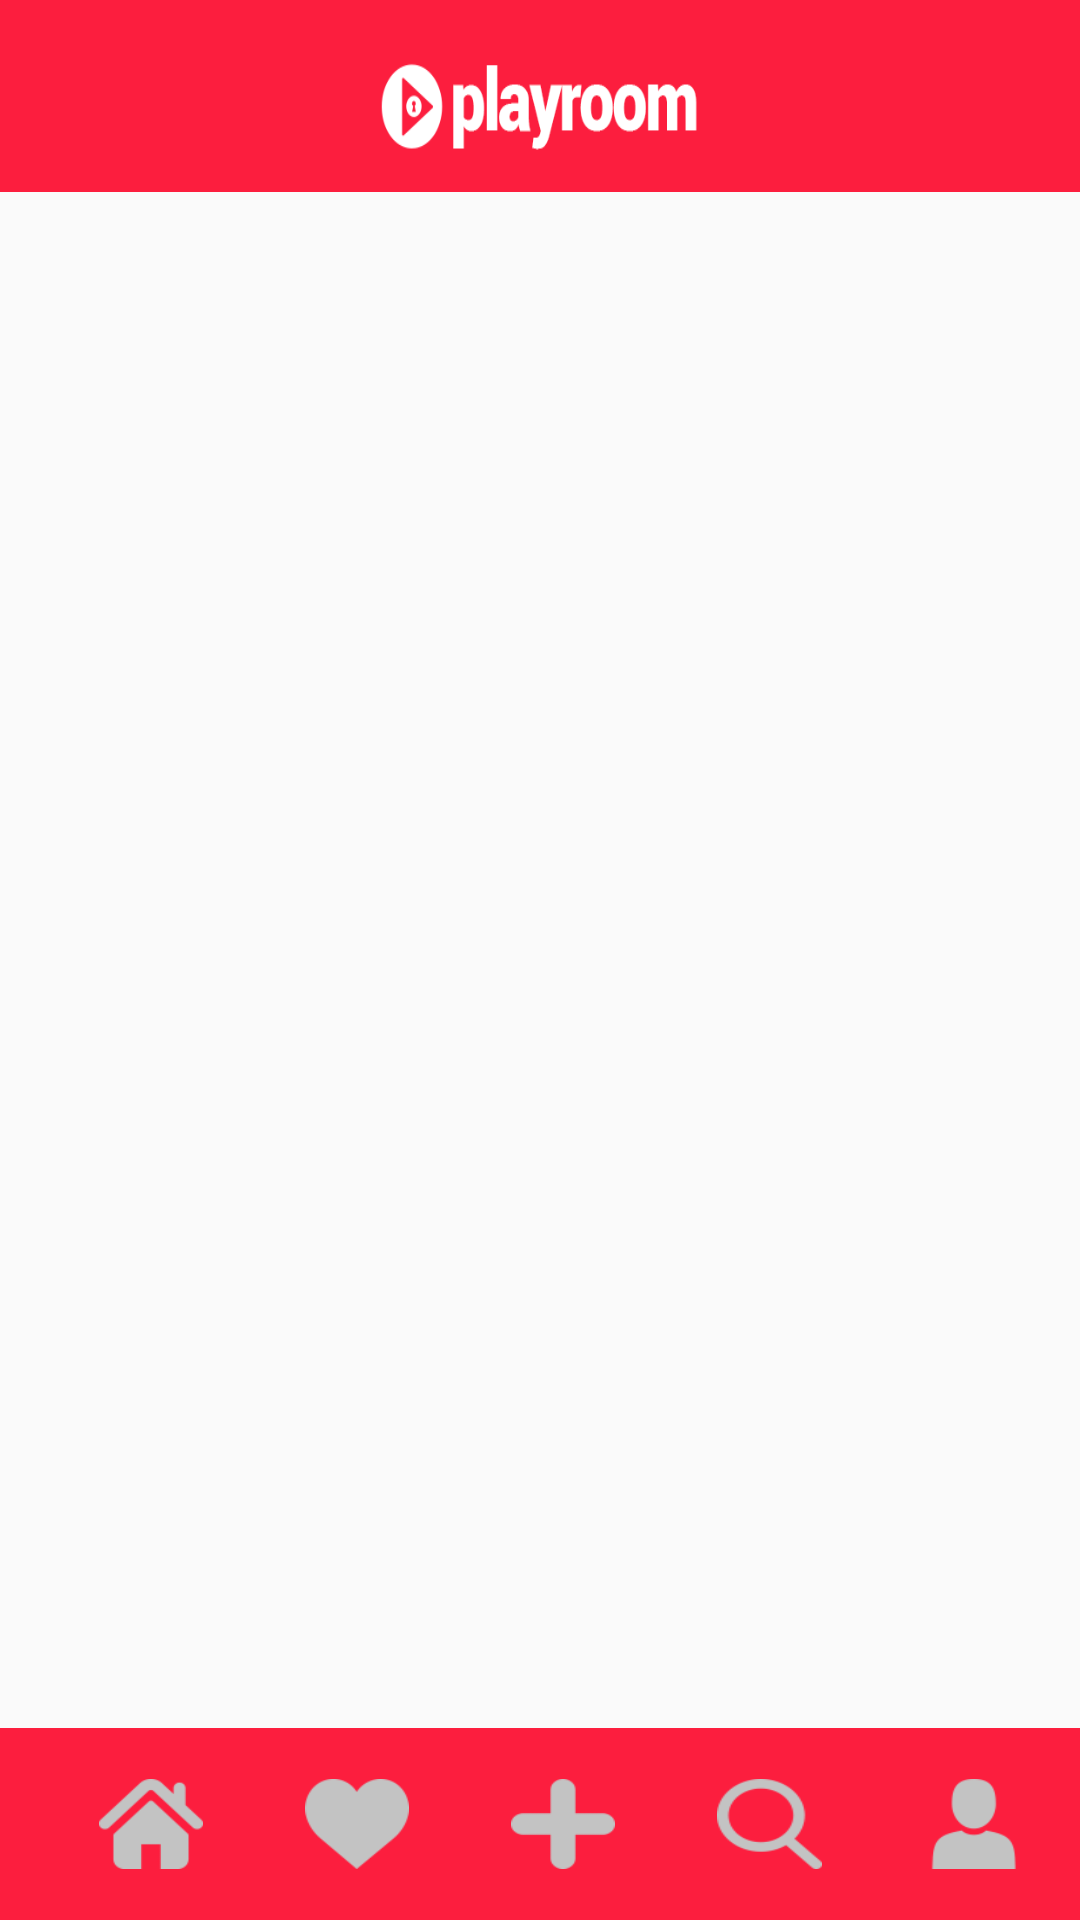

Icon bounding boxes for this 1080×1920 phone screenshot, format (x1, y1, x2, y2):
create: (511, 1779, 615, 1869)
explorer: (717, 1779, 822, 1869)
homet: (99, 1779, 203, 1869)
notifications: (305, 1779, 409, 1869)
profileicon: (932, 1779, 1016, 1869)
